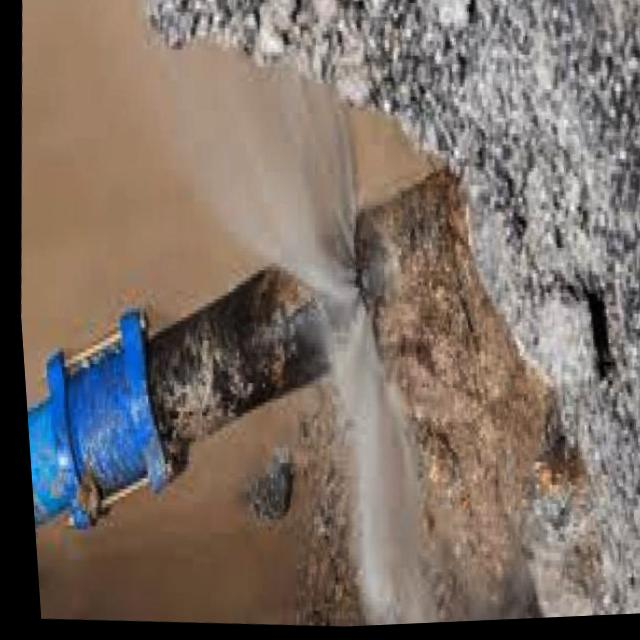leak: (134, 23, 463, 624)
